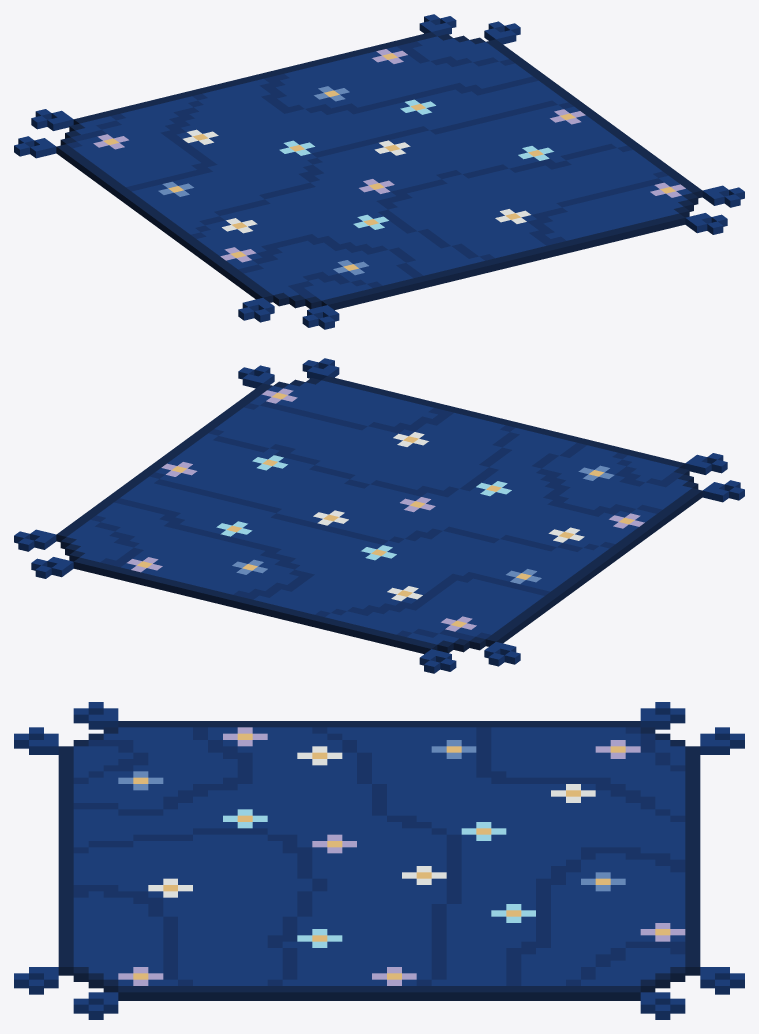
File: PixelRug_Floral_First-Edition_2021.glb
3 views of the same model, one above another, from view 1: azimuth 30°, elevation 25°; view 2: azimuth 150°, elevation 25°; view 3: azimuth 270°, elevation 25° (orthographic). The views are drawn at different scales.
Parts seen in each view (by area): view 1: Curve.583; view 2: Curve.583; view 3: Curve.583.
Boxes of the visible parts, box(x1,y1,x2,y2) form: Curve.583: box(14, 14, 744, 329); Curve.583: box(14, 358, 744, 673); Curve.583: box(14, 702, 744, 1019).
Bounding box in the file's own units: 0.933 × 0.0123 × 0.9328.
